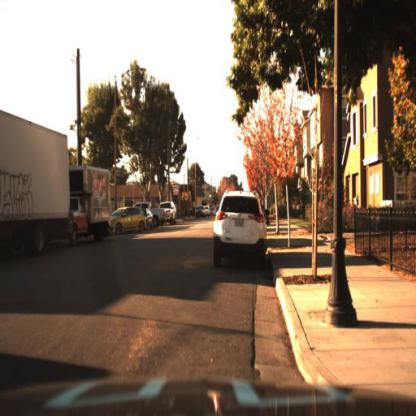car: (211, 190, 269, 268), (108, 204, 148, 236), (110, 204, 146, 238), (162, 199, 180, 230), (152, 206, 168, 231)
truck: (1, 99, 76, 266), (2, 106, 72, 258), (47, 164, 113, 252), (66, 152, 116, 246)
